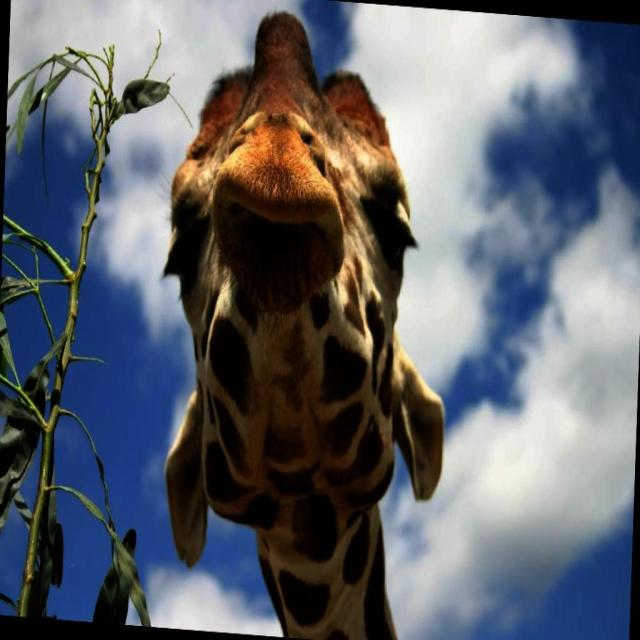Giraffe: (161, 8, 437, 640)
